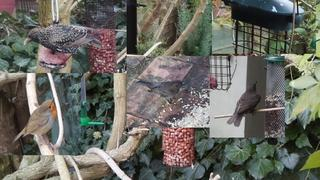blackbird: (136, 80, 186, 107)
robin: (11, 97, 57, 147)
starling: (24, 24, 103, 54), (226, 80, 261, 127)
